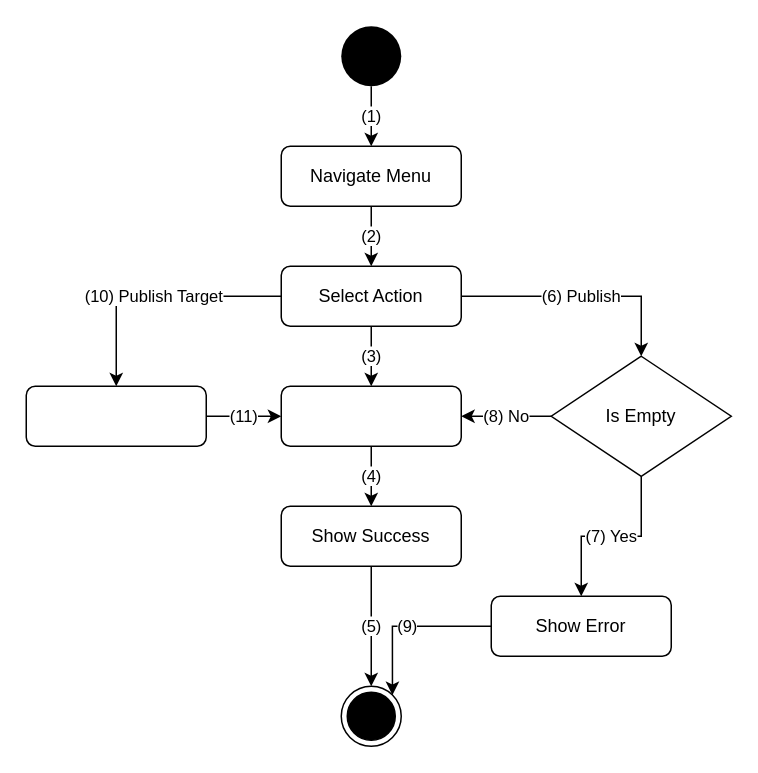
The diagram is 758 pixels wide and 773 high, and some of its shapes have lost their labels. Each missing label, with the centre of its shape:
"Save Changes" belongs at point (370, 415).
"Target Audience" belongs at point (115, 415).
